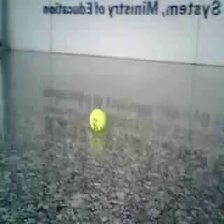tennis: (89, 108, 107, 133)
